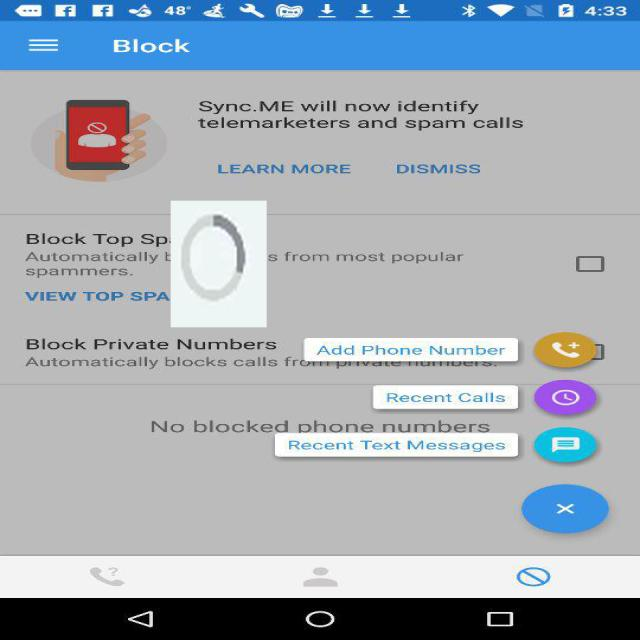misdirection: (170, 201, 266, 327)
